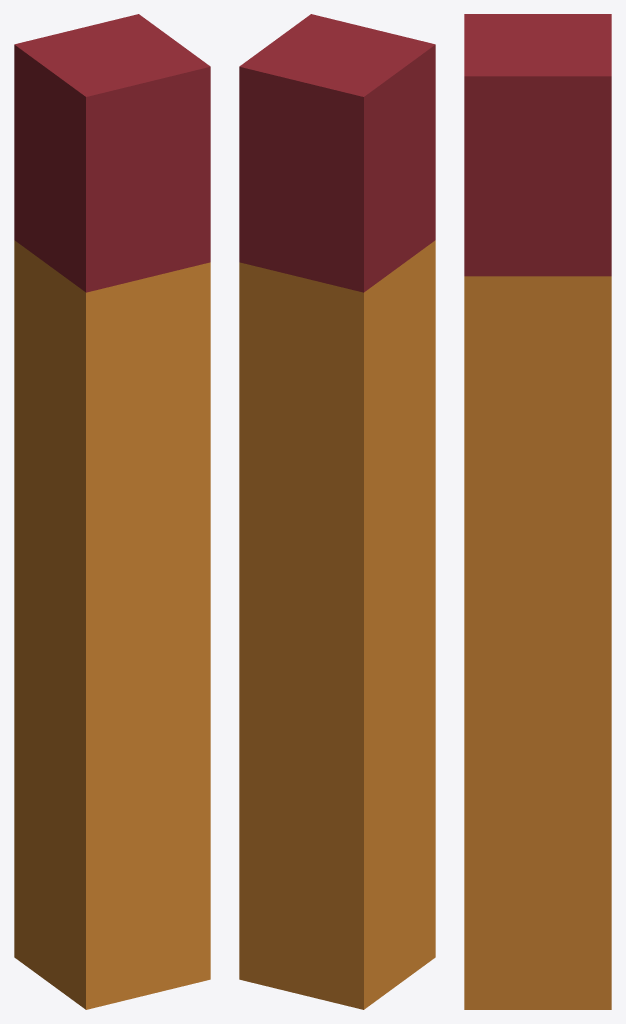
Rendered from matchstick.glb.
3 renders of one model, left to right at view 1: azimuth 30°, elevation 25°; view 2: azimuth 150°, elevation 25°; view 3: azimuth 270°, elevation 25°, orthographic. The views are drawn at different scales.
Parts seen in each view (by area): view 1: Untitled; view 2: Untitled; view 3: Untitled.
Boxes of the visible parts, <box> form: Untitled: <box>14,14,210,1009</box>; Untitled: <box>239,14,435,1009</box>; Untitled: <box>464,14,611,1009</box>.
Size of the model in its own units: 0.2 by 1.4 by 0.2.
Materials: 1 (1 with a texture image).
